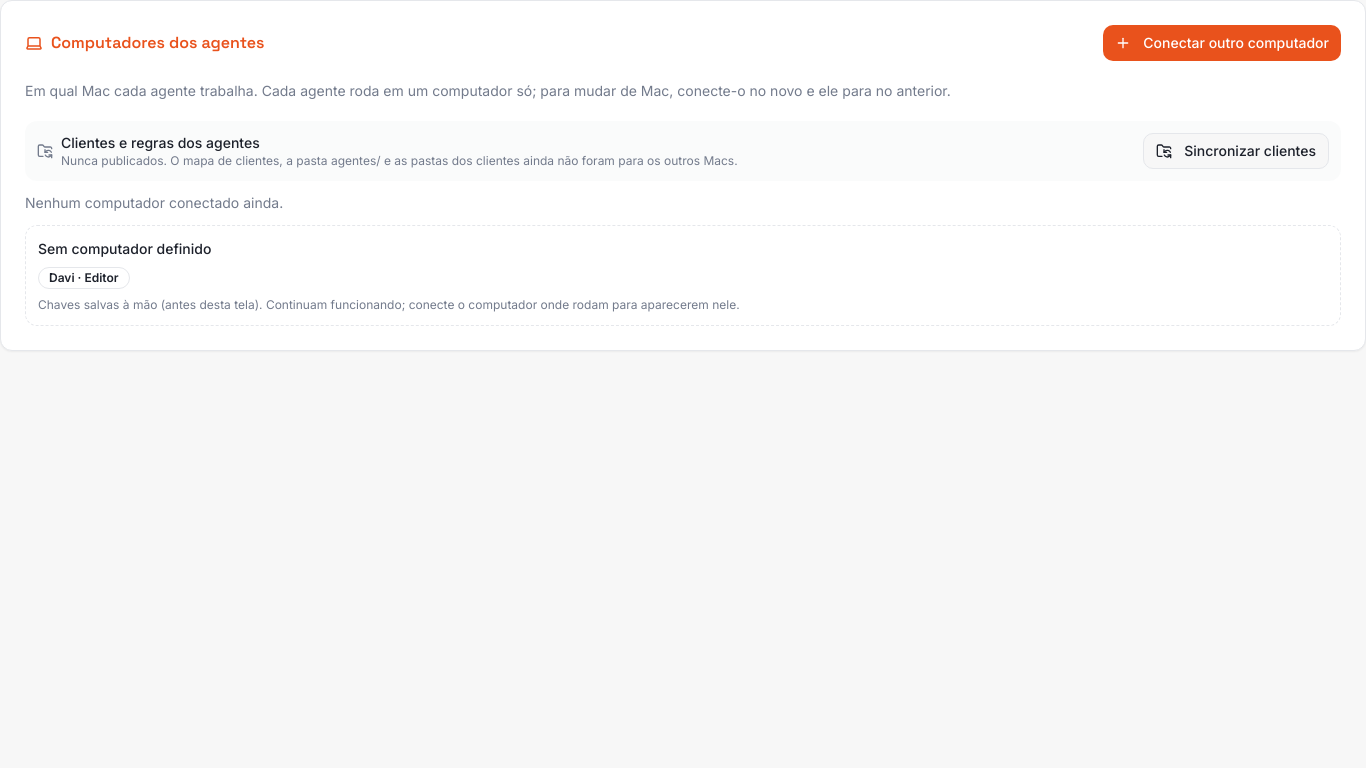
Test: Computadores dos agentes: lista de agentes atualizada › abrir "Conectar outro computador" mostra o agente que ganhou chave depois que a página abriu
The width and height of the screenshot is (1366, 768).
Step 1. Click the button "Conectar outro computador" → (1222, 43), box left=1103, top=25, right=1341, bottom=61
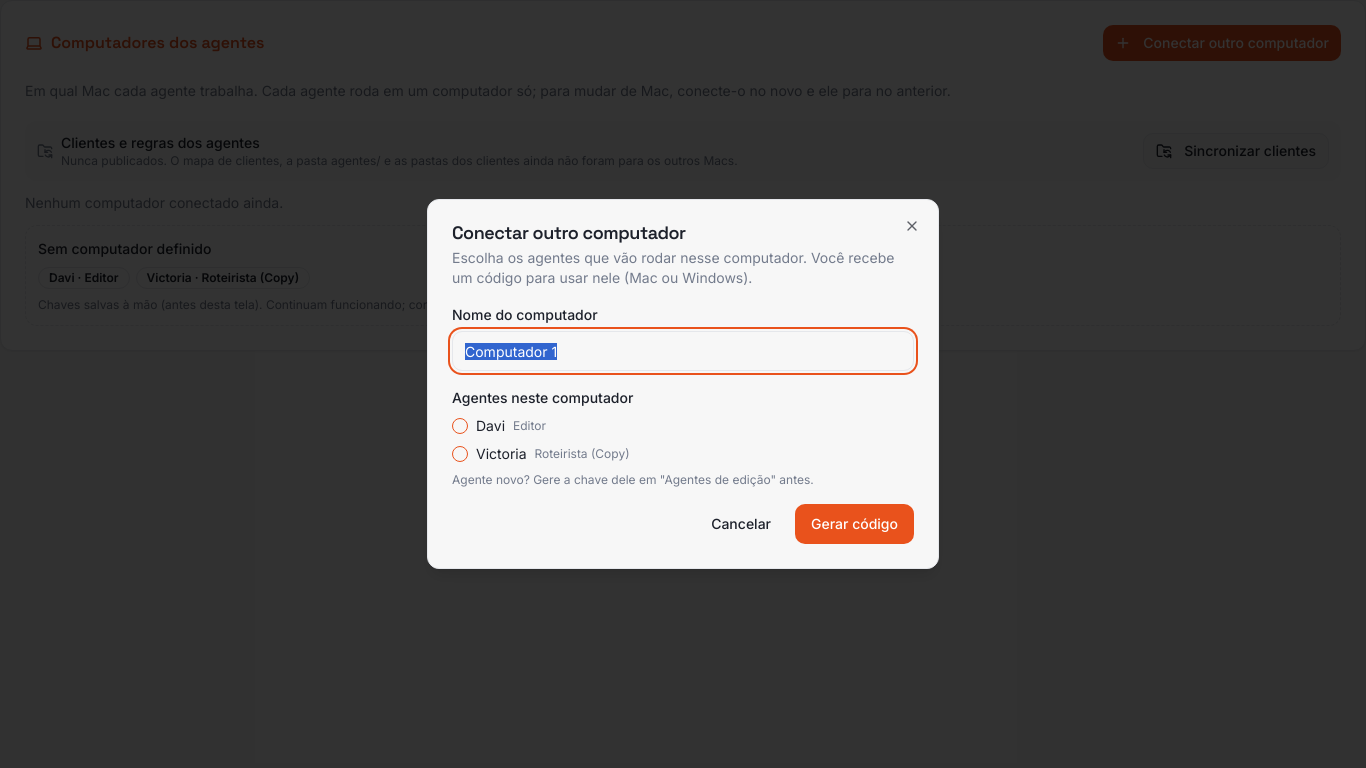
Result: the text "Victoria" is shown at left=476, top=444, right=526, bottom=464
Result: the text "Roteirista (Copy)" is shown at left=534, top=446, right=630, bottom=462
